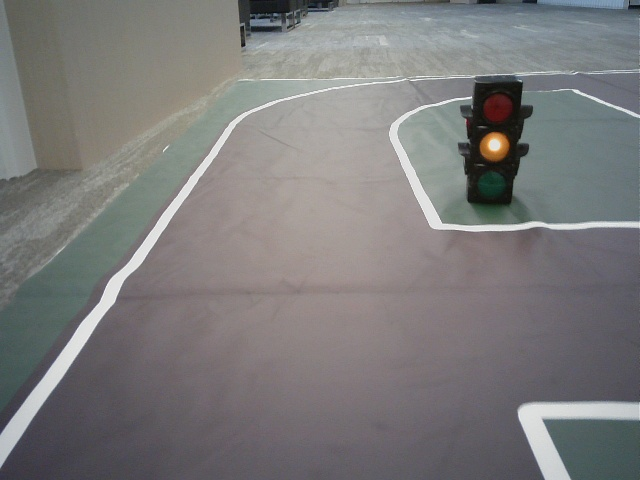yellow: (475, 83, 514, 198)
